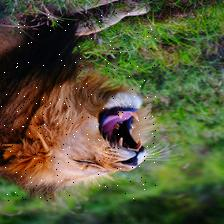Lion: (0, 13, 156, 203)
